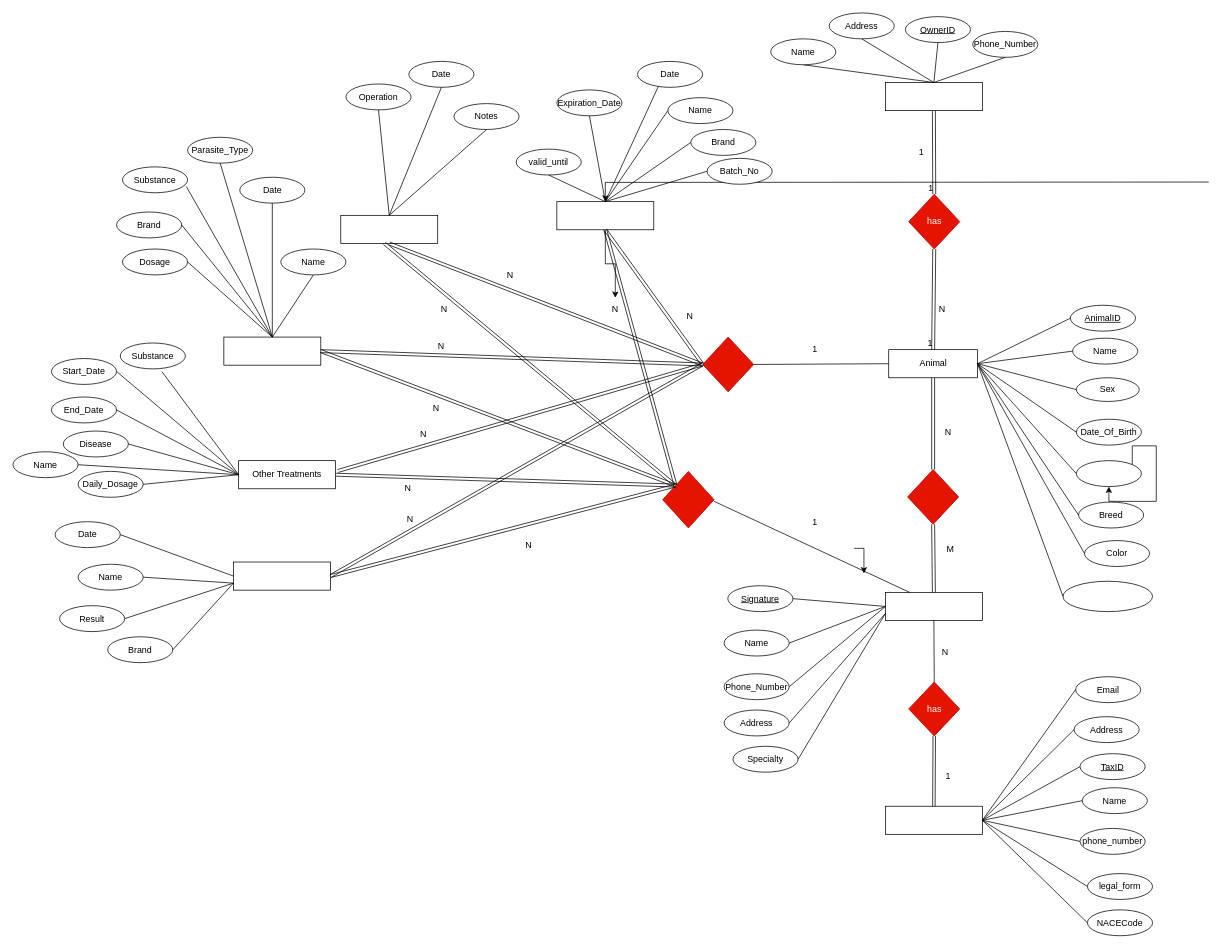
The diagram is 1228 pixels wide and 949 high, and some of its shapes have lost their labels. Here are the shapes that lost their labels. From the top down, the centre of each, then its label:
the point at 933,96: Owner
the point at 389,229: Surgeries
the point at 605,215: Vaccinations
the point at 272,350: Antiparasitic Treatments
the point at 728,364: undergoes
the point at 1108,473: Species
the point at 688,499: vet prescribes
the point at 933,496: is under care of
the point at 281,575: Diagnostic Tests
the point at 933,606: Veterinarian
the point at 1107,596: Distinguishing_Marks
the point at 933,819: Clinic
